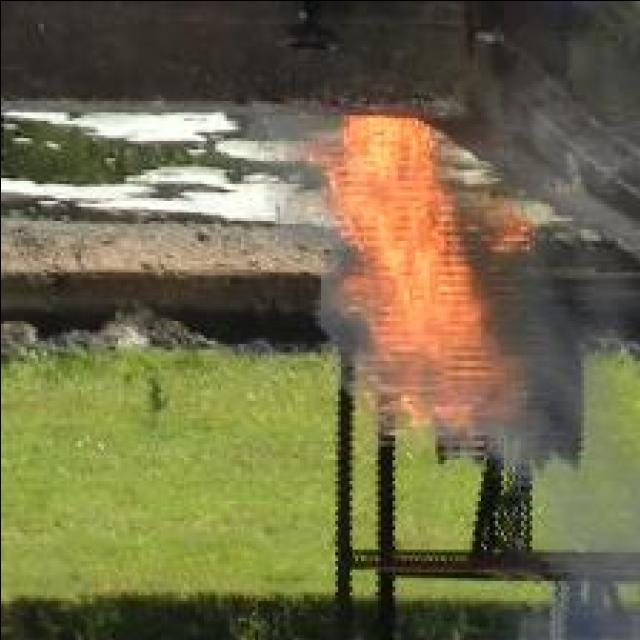Fire: (306, 115, 534, 432)
